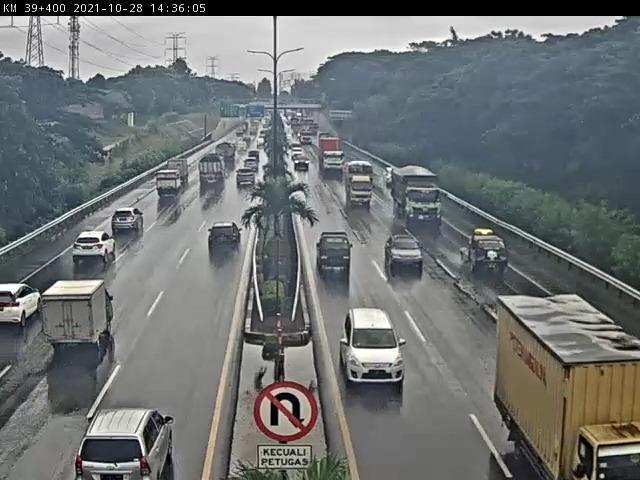bus: (349, 166, 374, 210)
car: (341, 303, 410, 389), (456, 231, 515, 275), (72, 228, 123, 270), (383, 235, 431, 279), (206, 219, 250, 261), (323, 227, 353, 284), (1, 279, 27, 328), (110, 203, 149, 235), (297, 159, 310, 173)
truck: (490, 296, 640, 471), (92, 405, 174, 478), (36, 282, 114, 356), (401, 173, 446, 223), (321, 139, 349, 180), (202, 156, 228, 192), (161, 169, 186, 198)
